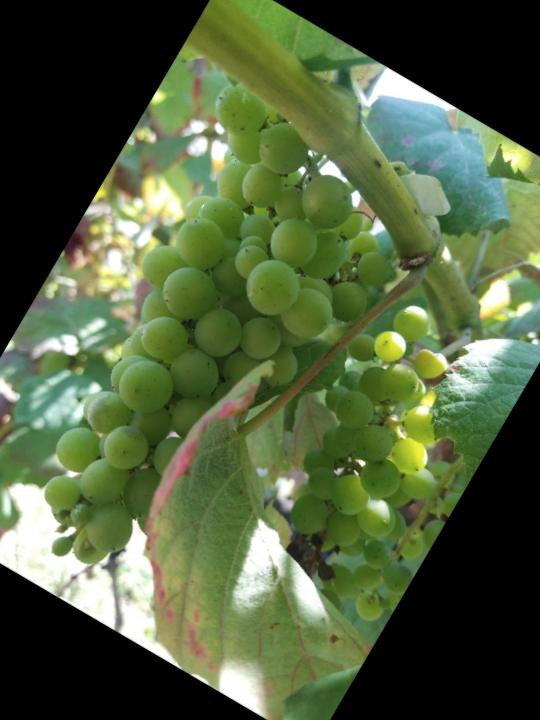grape: (0, 78, 441, 635), (244, 290, 509, 609)
